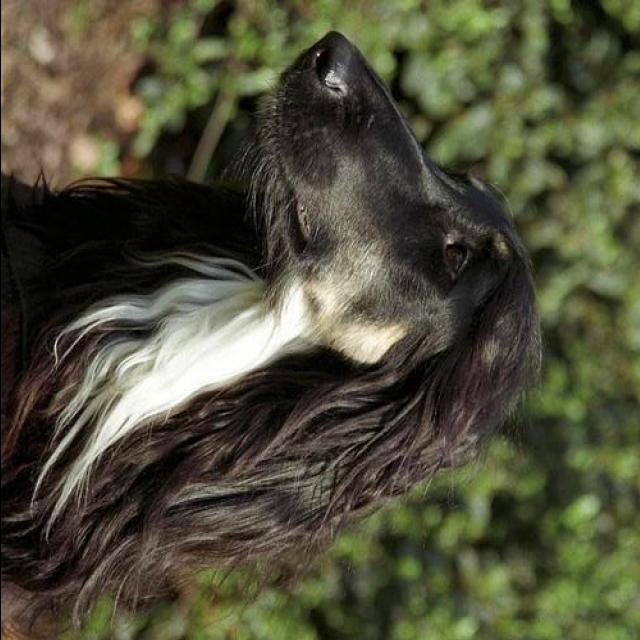afghan_hound: (2, 27, 542, 637)
